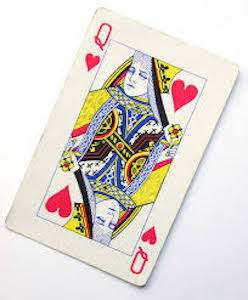QueenOfHearts: (1, 3, 241, 293)
